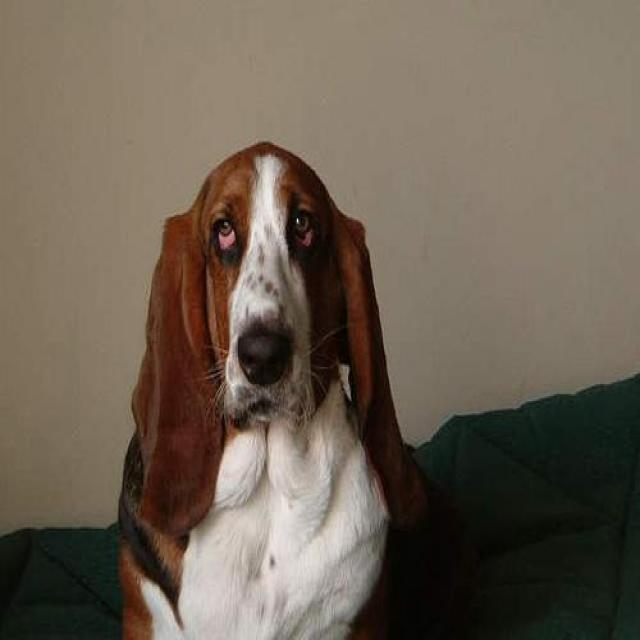basset: (118, 136, 430, 638)
